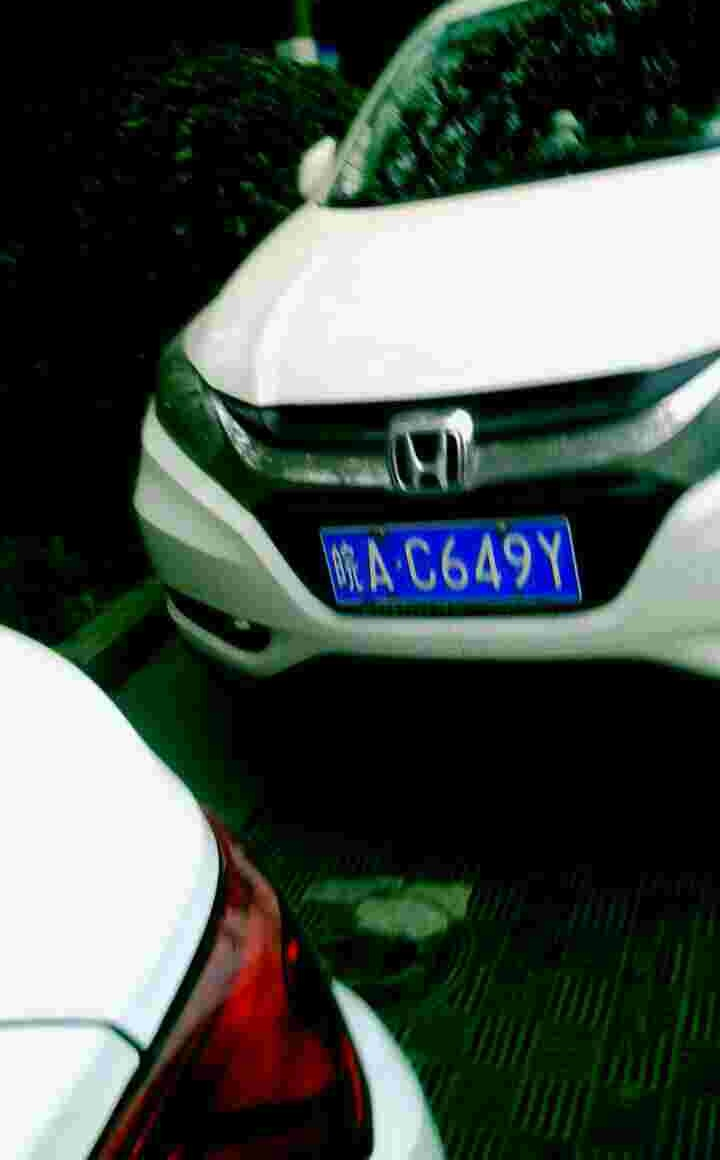plate: (317, 516, 588, 610)
